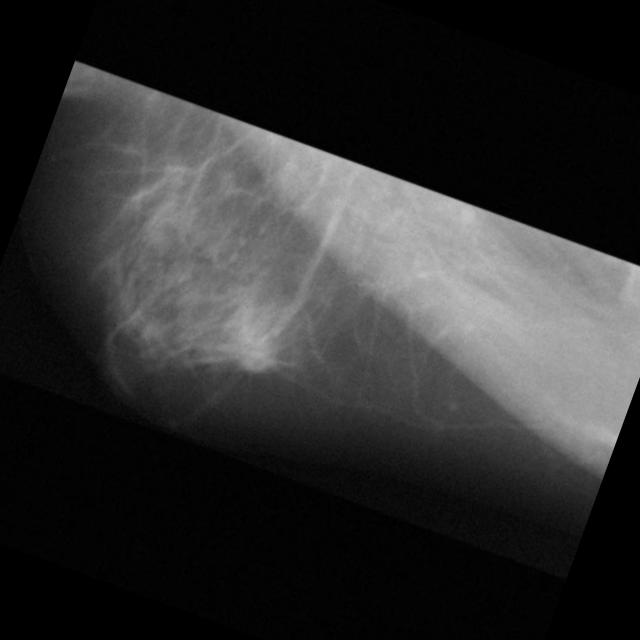MISC: (226, 323, 284, 381)
